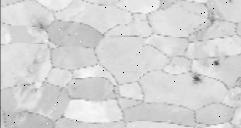good_void: (28, 19, 54, 37), (204, 9, 222, 28), (190, 71, 203, 84), (211, 56, 222, 67)
